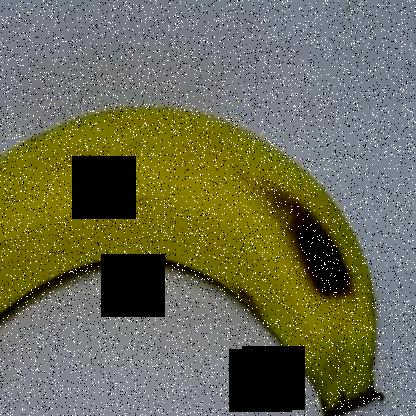freshripe: (0, 93, 395, 415)
